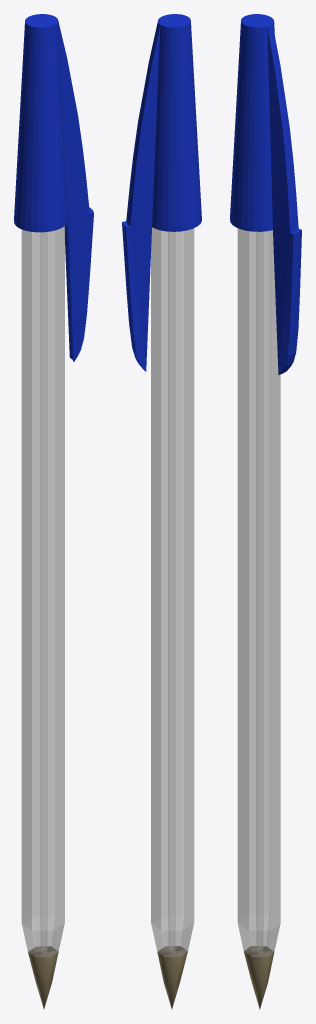
File: boligrafo.fbx
3 views of the same model, side by side, from view 1: azimuth 30°, elevation 25°; view 2: azimuth 210°, elevation 25°; view 3: azimuth 330°, elevation 25° (orthographic).
Visible parts, largest first — view 1: Cylinder; view 2: Cylinder; view 3: Cylinder.
Part boxes in pixels (box(x1,y1,x2,y2)): Cylinder: box(14, 14, 93, 1009); Cylinder: box(122, 14, 201, 1009); Cylinder: box(230, 14, 301, 1009).
Bounding box in the file's own units: 14.37 × 193 × 9.1.
